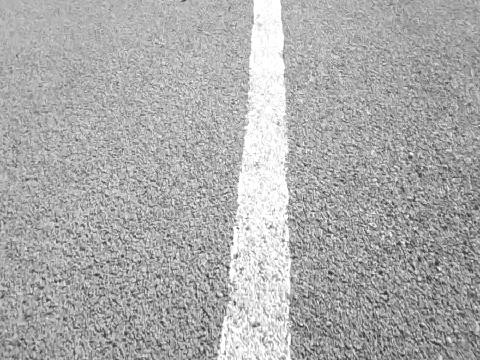Lines: (217, 0, 291, 360)
